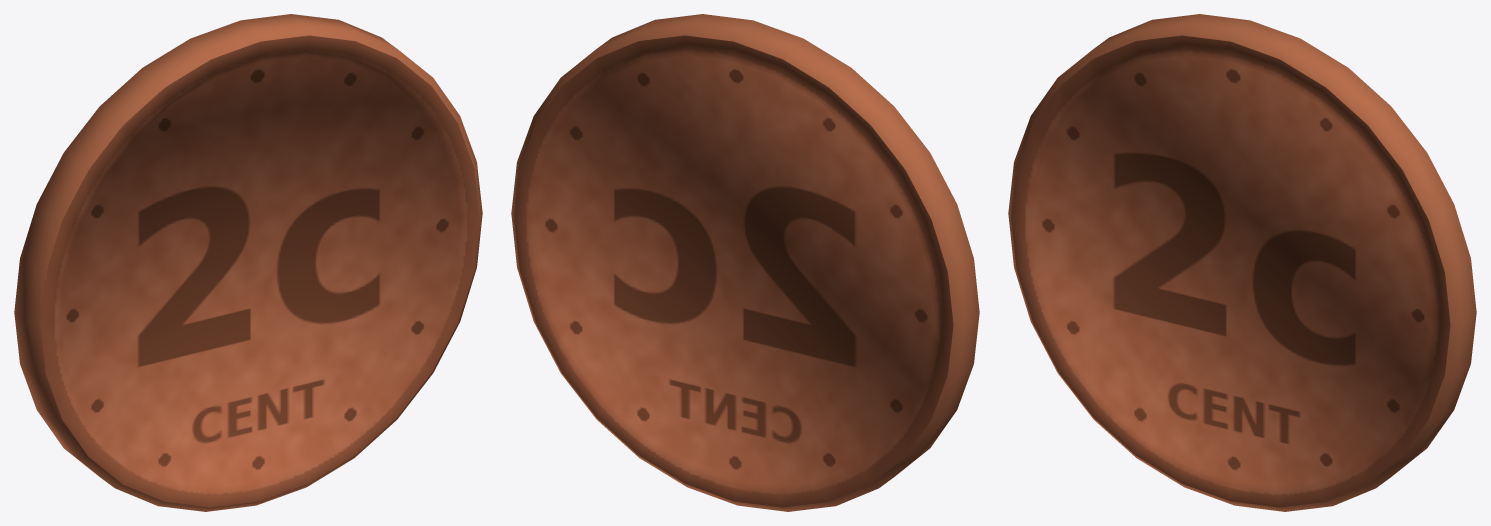
File: Coin_2Cent.obj
3 renders of one model, left to right at view 1: azimuth 30°, elevation 25°; view 2: azimuth 150°, elevation 25°; view 3: azimuth 330°, elevation 25°, orthographic.
Bounding box in the file's own units: 0.0188 × 0.0188 × 0.00167.
Materials: 2 (1 with a texture image).
